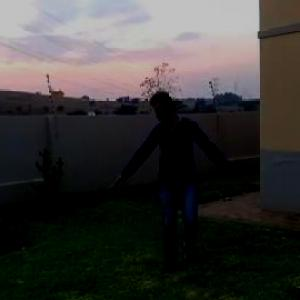land: (103, 89, 247, 281)
